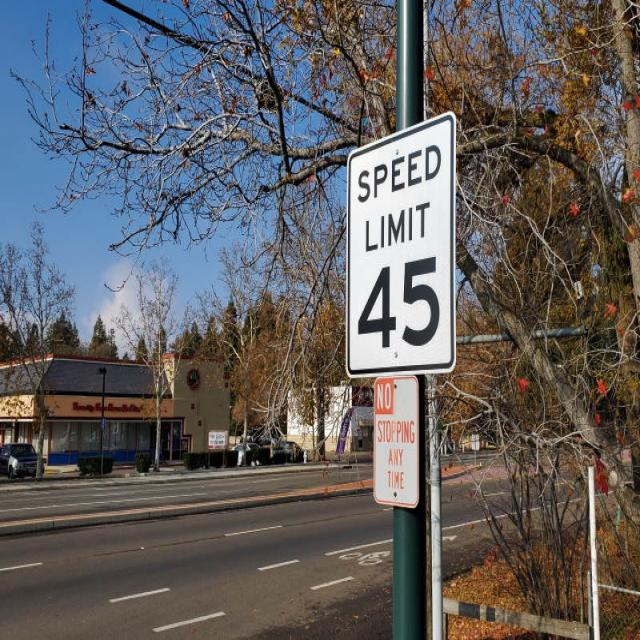speedLimit45: (344, 107, 460, 381)
